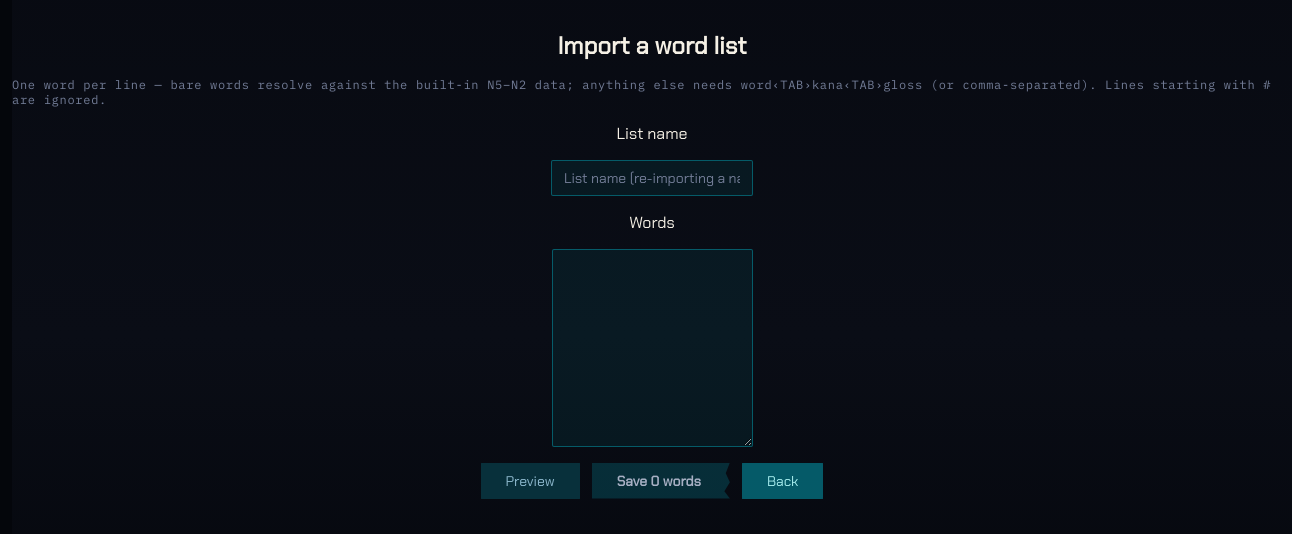
Test: ImportScreen › a failed preview renders the error message from a 400 response body verbatim
Type "犬" into the text box with test id "import-text" at (652, 348), box [552, 248, 752, 446]
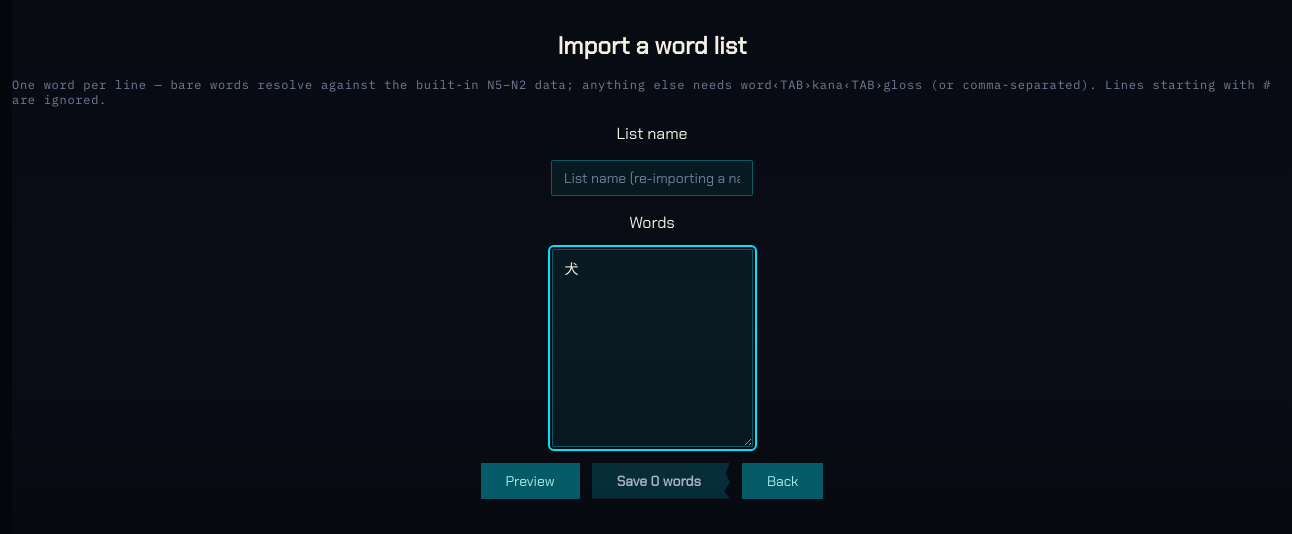
Click the button with test id "preview-button" at (530, 480), box [480, 462, 580, 498]
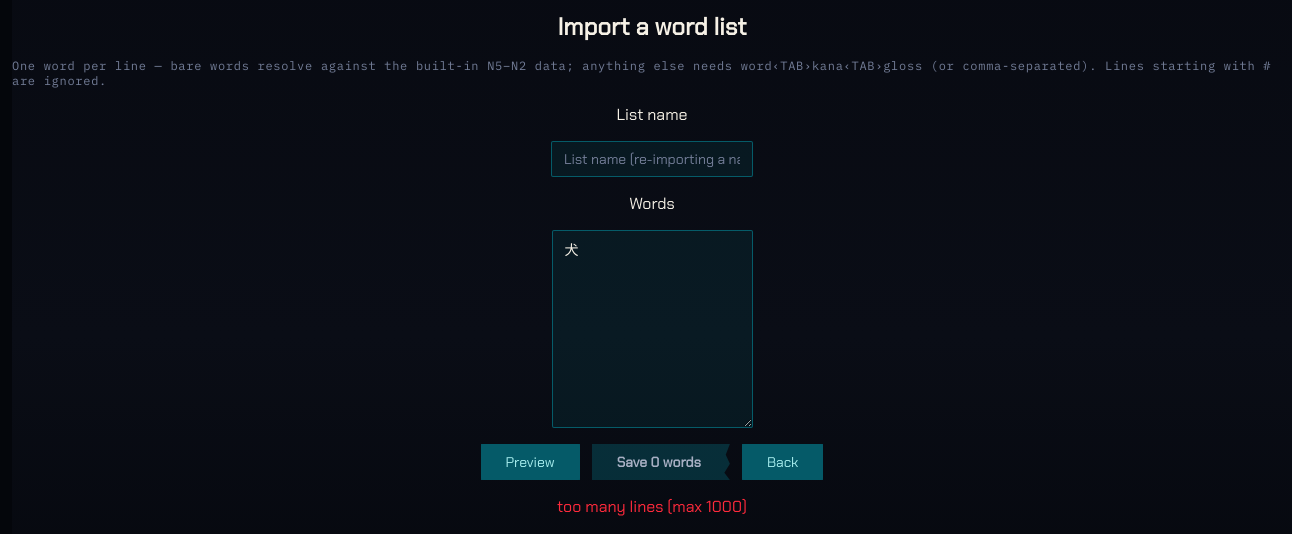
Expected: the text with test id "import-error" reads "too many lines (max 1000)", [557, 496, 747, 517]
